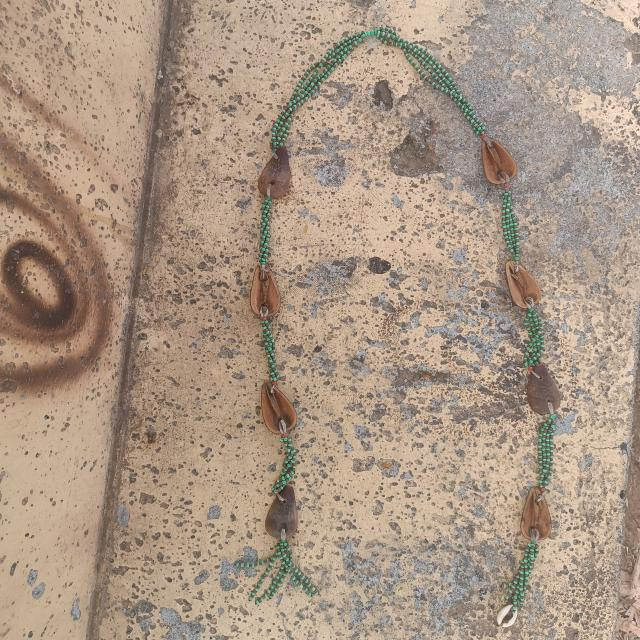facedown: (262, 479, 304, 545), (255, 140, 295, 202), (525, 358, 567, 417)
faceup: (477, 129, 522, 187), (256, 378, 300, 437), (501, 256, 544, 311), (518, 483, 556, 543), (248, 259, 282, 323)
